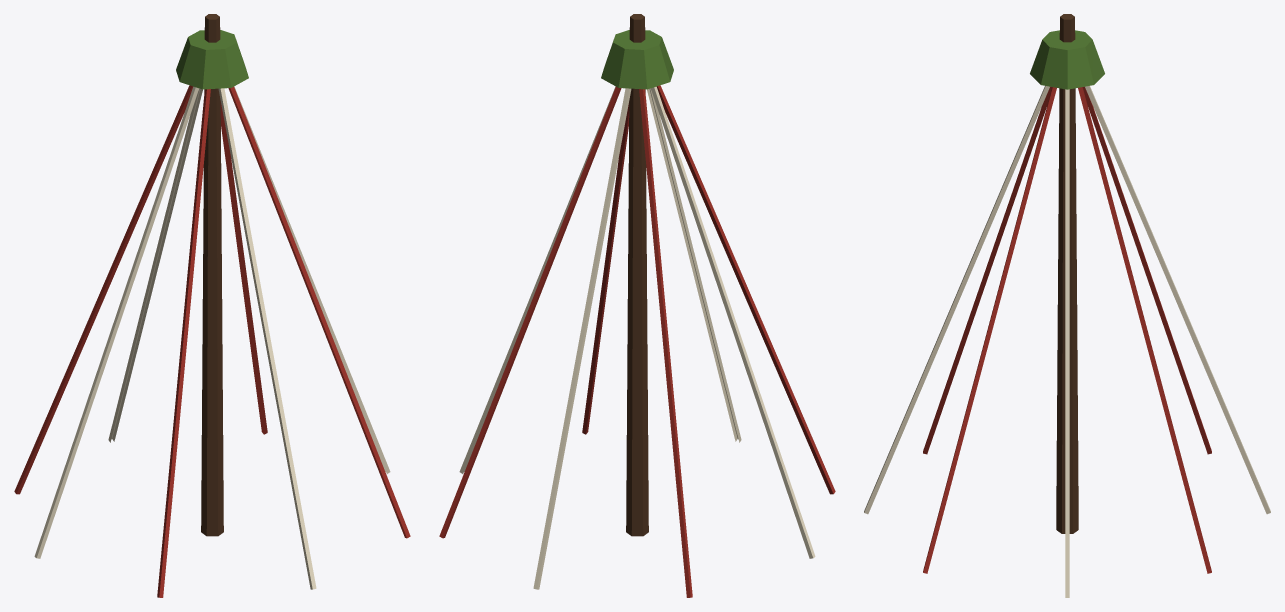
File: maypole.obj
3 renders of one model, left to right at view 1: azimuth 30°, elevation 25°; view 2: azimuth 150°, elevation 25°; view 3: azimuth 270°, elevation 25°, orthographic.
Bounding box in the file's own units: 6.47 × 9 × 6.47.
